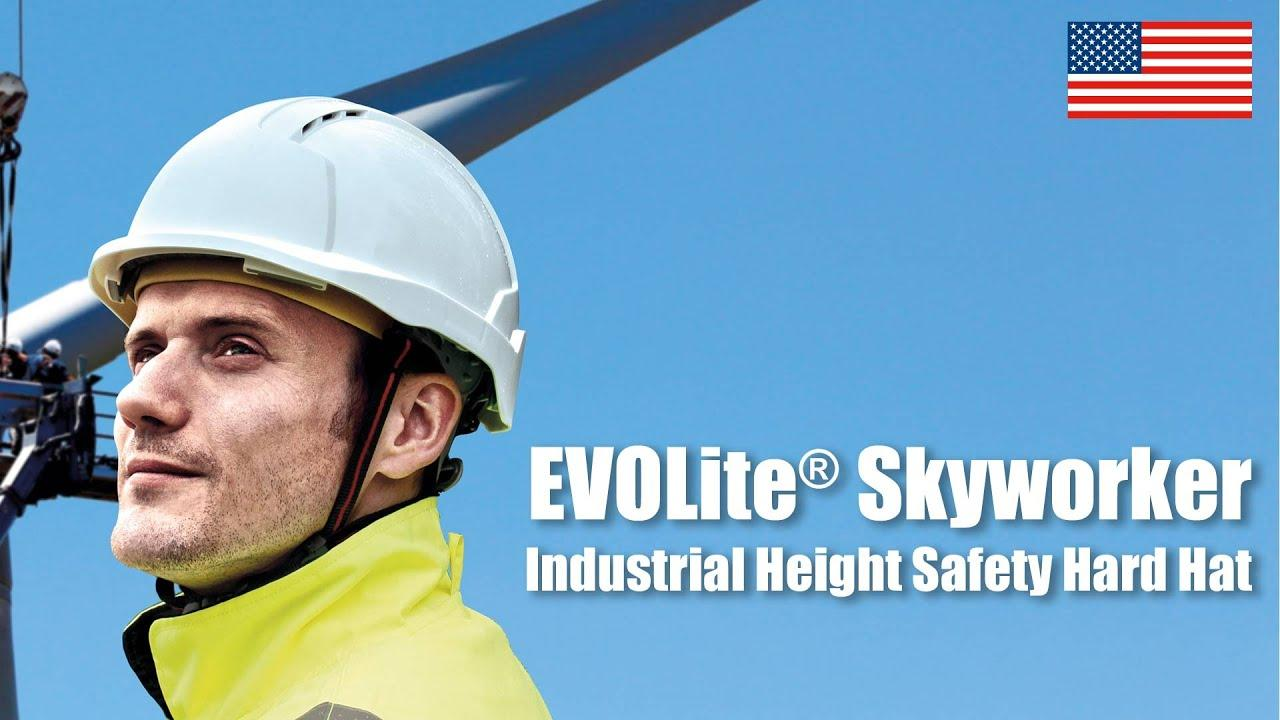helmet: (81, 94, 528, 433)
